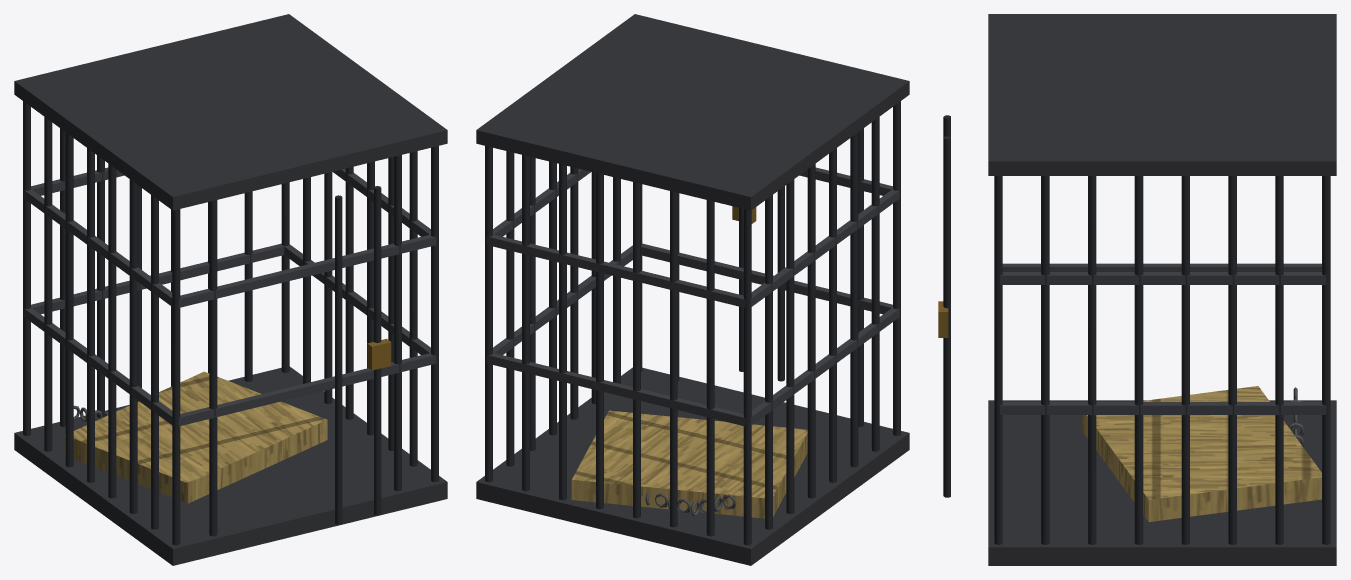
Rendered from kaefig.glb.
3 views of the same model, side by side, from view 1: azimuth 30°, elevation 25°; view 2: azimuth 150°, elevation 25°; view 3: azimuth 270°, elevation 25° (orthographic). The views are drawn at different scales.
Parts seen in each view (by area): view 1: modell; view 2: modell; view 3: modell.
Part boxes in pixels (bbox=[...]): modell: bbox=[14, 14, 447, 565]; modell: bbox=[476, 14, 909, 565]; modell: bbox=[938, 14, 1336, 565].
Size of the model in its own units: 1.7 by 2.18 by 1.95.
2 materials, 1 textured.
